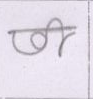i_matra: (50, 17, 68, 56)
